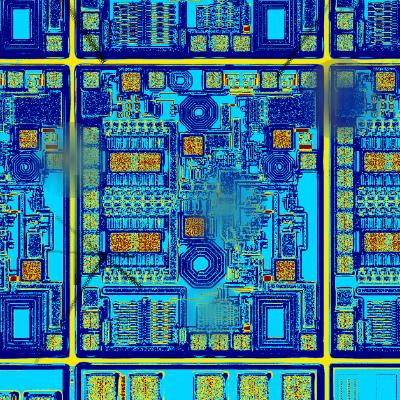Die: (74, 64, 324, 358)
Pad 1: (137, 233, 160, 251), (137, 153, 160, 171), (110, 233, 132, 251), (110, 153, 132, 171), (277, 261, 295, 280), (185, 217, 204, 235), (184, 137, 202, 155), (273, 130, 291, 148), (122, 73, 140, 91)
Pad 2: (83, 190, 99, 209), (83, 234, 99, 253), (83, 169, 99, 188), (83, 147, 99, 166), (83, 255, 99, 273), (83, 212, 99, 230), (83, 127, 99, 144), (206, 72, 222, 88), (83, 72, 99, 88), (83, 334, 99, 350), (83, 313, 99, 329), (149, 72, 164, 88), (262, 72, 277, 88), (212, 335, 228, 350), (234, 335, 250, 350), (301, 154, 316, 169), (301, 72, 316, 87), (301, 335, 316, 350), (191, 335, 206, 350)
